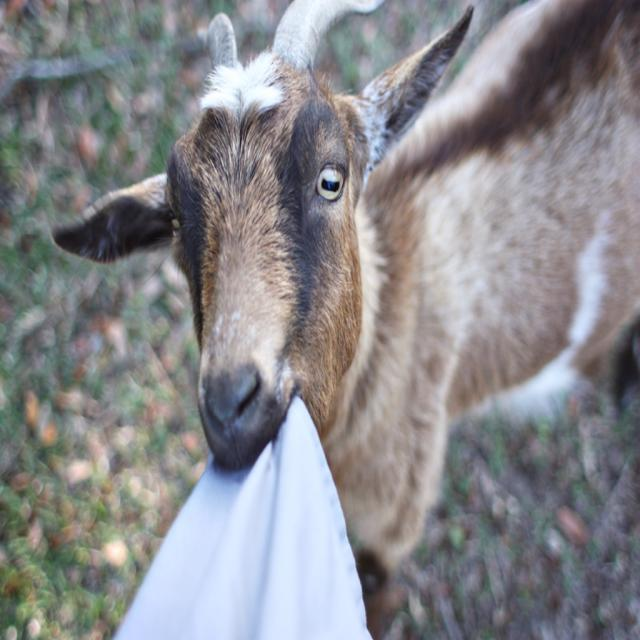Goat: (51, 0, 639, 585)
